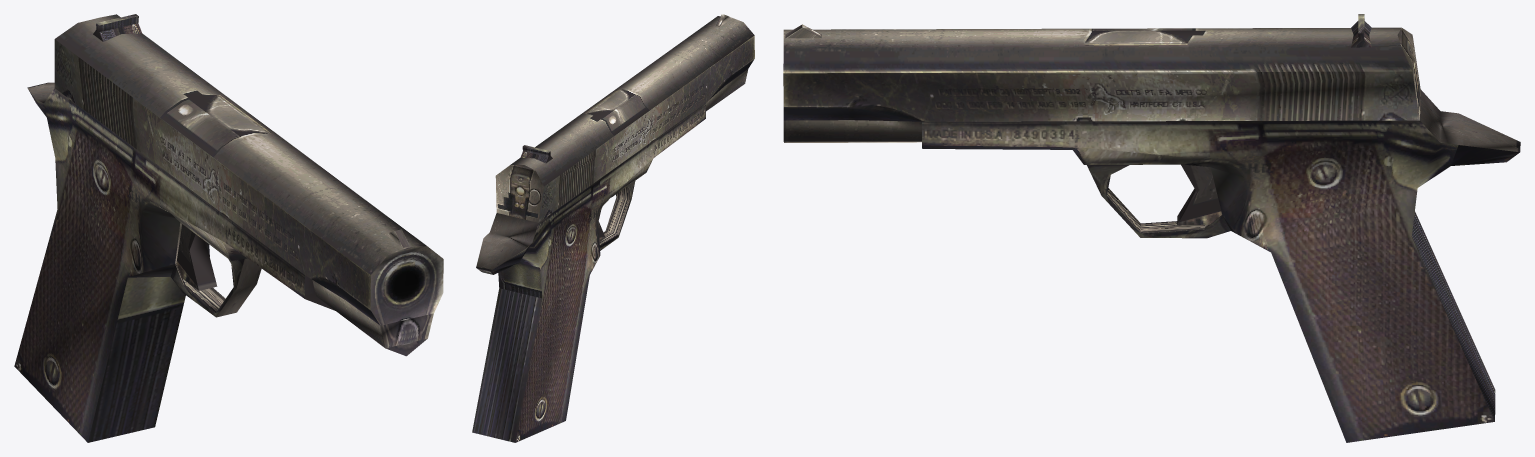
Rendered from colt_3rd.glb.
3 renders of one model, left to right at view 1: azimuth 30°, elevation 25°; view 2: azimuth 150°, elevation 25°; view 3: azimuth 270°, elevation 25°, orthographic. The views are drawn at different scales.
Parts seen in each view (by area): view 1: _colt_3rd; view 2: _colt_3rd; view 3: _colt_3rd.
Boxes of the visible parts, x1,y1,x2,y2 form: _colt_3rd: (14,14,443,442); _colt_3rd: (472,14,754,442); _colt_3rd: (783,14,1520,442).
Size of the model in its own units: 0.0289 by 0.1506 by 0.2485.
Materials: 1 (1 with a texture image).
